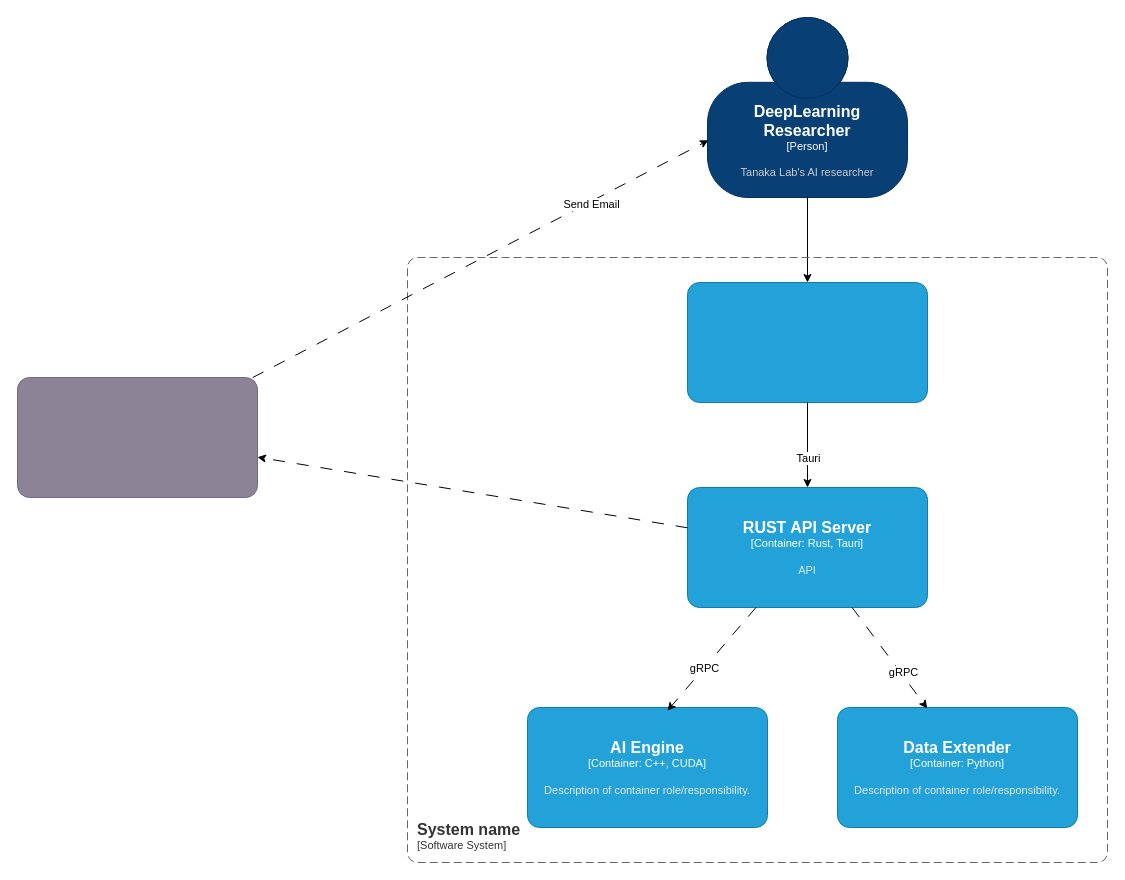
Some shapes in this 1125 by 880 pixel diagram are drawn without their labels. The centre of each missing label's shape, as x and y in pixels:
Emain System [Software System] The internal Microsoft Exchange e-mail system: (137,437)
TS FrontEnd [Container: TypeScript] FrontEnd: (807,342)
